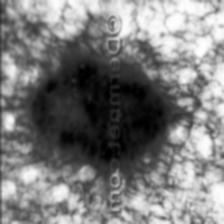Potentially Malignant Skin Tumors: (28, 56, 170, 164)
